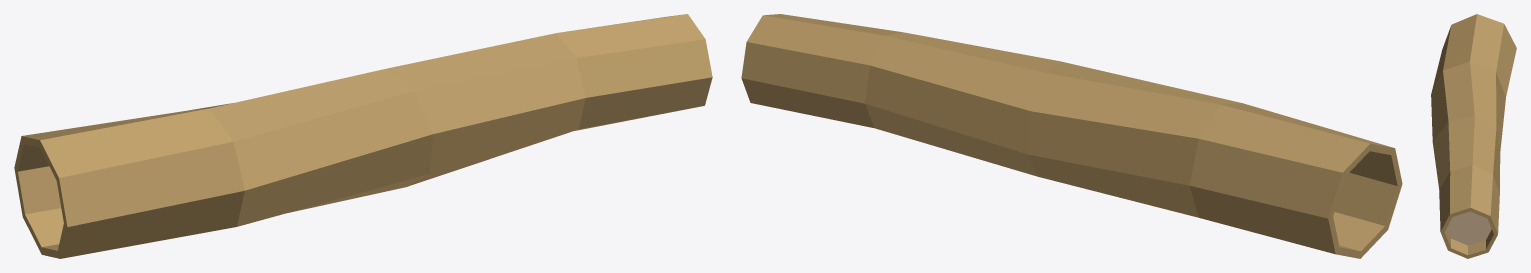
The model's file is Oak_Log_05.fbx.
3 renders of one model, left to right at view 1: azimuth 30°, elevation 25°; view 2: azimuth 150°, elevation 25°; view 3: azimuth 270°, elevation 25°, orthographic. The views are drawn at different scales.
Visible parts, largest first — view 1: Oak_Log_05; view 2: Oak_Log_05; view 3: Oak_Log_05.
Boxes of the visible parts, x1=… form: Oak_Log_05: x1=14, y1=14, x2=712, y2=258; Oak_Log_05: x1=741, y1=14, x2=1402, y2=258; Oak_Log_05: x1=1431, y1=14, x2=1516, y2=258.
Bounding box in the file's own units: 310 × 56.44 × 62.62.
